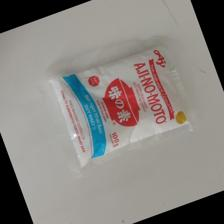Ajinomoto: (46, 38, 201, 171)
